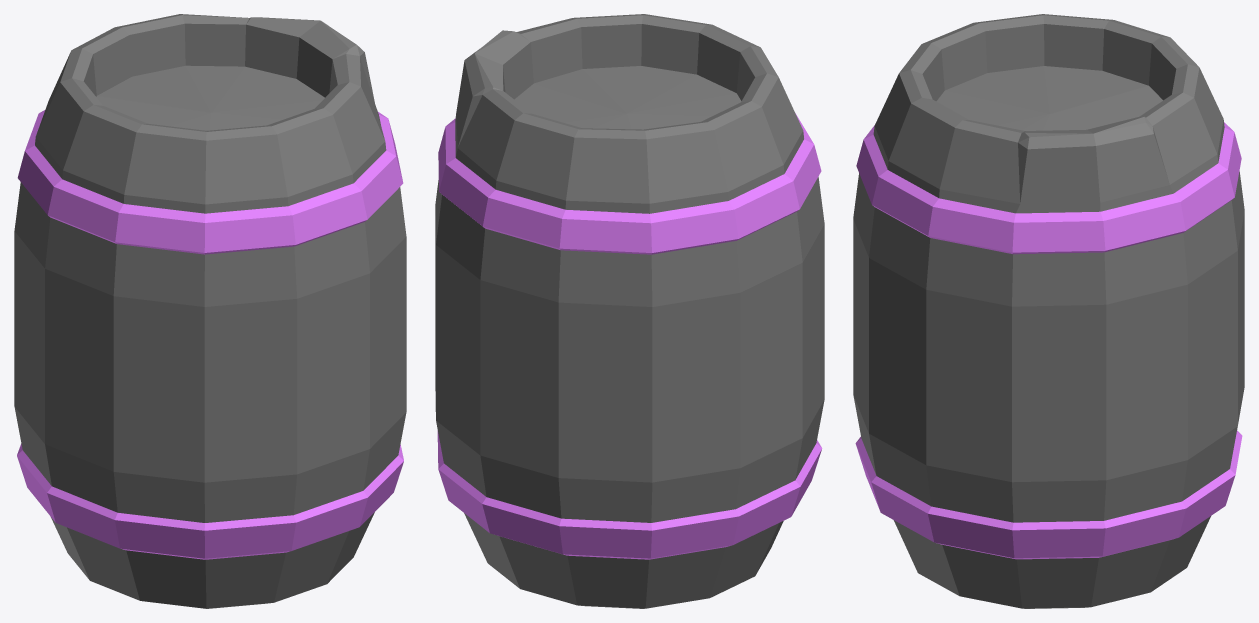
Rendered from Barrel.fbx.
The picture shows the model from 3 angles, left to right: view 1: azimuth 30°, elevation 25°; view 2: azimuth 150°, elevation 25°; view 3: azimuth 270°, elevation 25°; orthographic projection.
Visible parts, largest first — view 1: Cylinder001; view 2: Cylinder001; view 3: Cylinder001.
Part boxes in pixels (x1,y1,x2,y2): Cylinder001: (14,14,406,608); Cylinder001: (435,14,824,608); Cylinder001: (853,14,1244,608).
Bounding box in the file's own units: 16.39 × 22.61 × 16.41.
